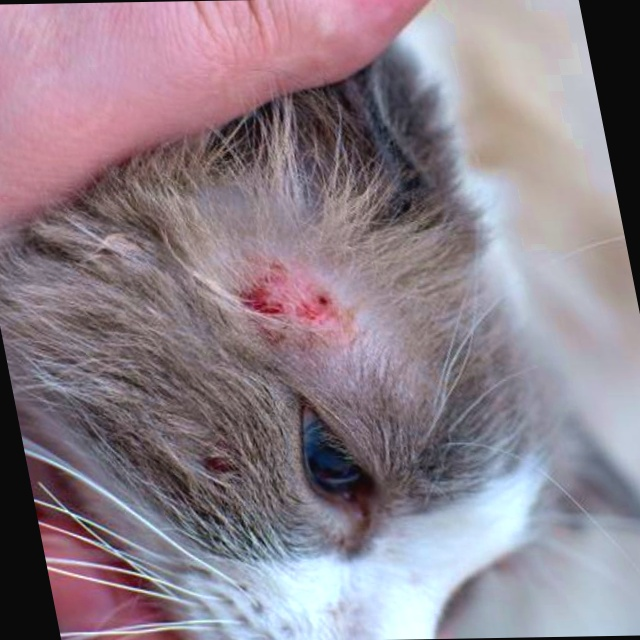ringworm: (230, 260, 357, 330)
